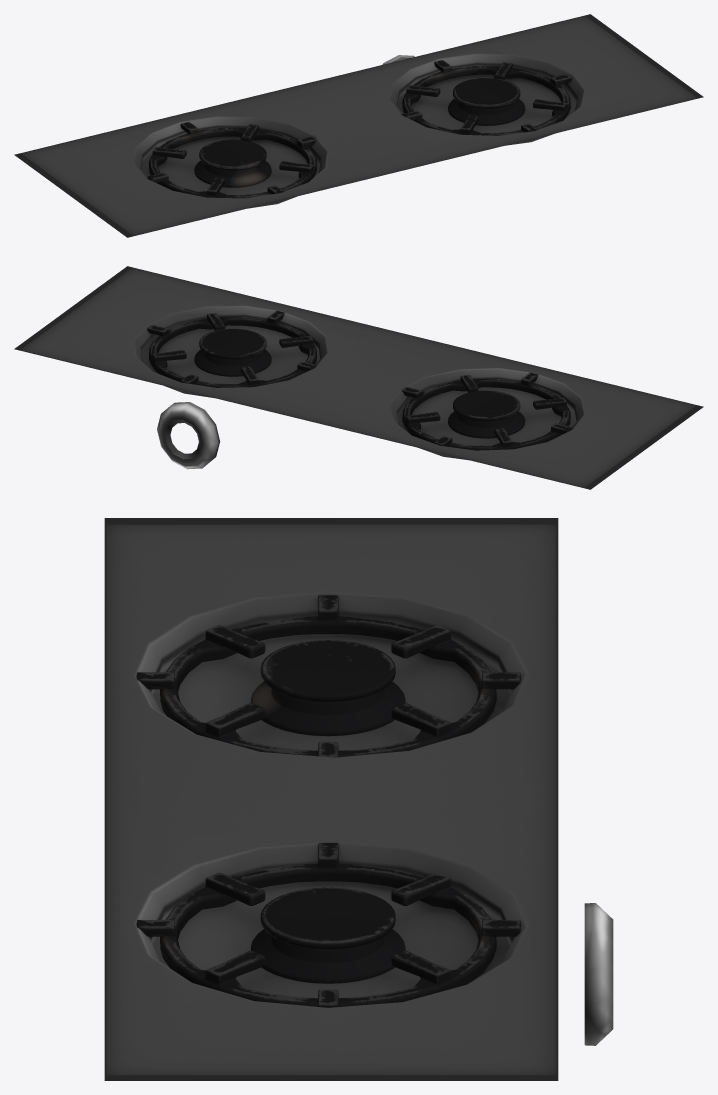
The model's file is JapaneseRestaurant_Stove.fbx.
3 renders of one model, top to bottom at view 1: azimuth 30°, elevation 25°; view 2: azimuth 150°, elevation 25°; view 3: azimuth 270°, elevation 25°, orthographic. The views are drawn at different scales.
Parts seen in each view (by area): view 1: JapaneseRestaurant_Stove; view 2: JapaneseRestaurant_Stove; view 3: JapaneseRestaurant_Stove.
Boxes of the visible parts, x1=… form: JapaneseRestaurant_Stove: x1=14, y1=14, x2=703, y2=237; JapaneseRestaurant_Stove: x1=14, y1=266, x2=703, y2=489; JapaneseRestaurant_Stove: x1=104, y1=518, x2=613, y2=1080.
Bounding box in the file's own units: 60.51 × 7.31 × 23.11.
